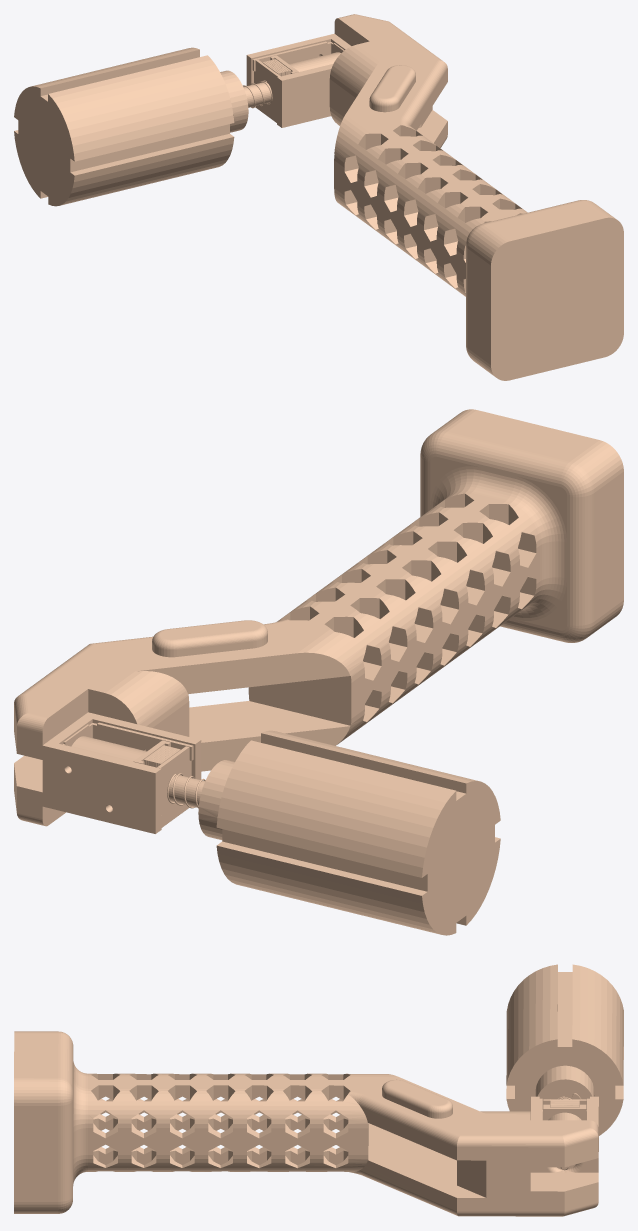
File: Motor Actuated Mallet Finalv.glb
3 views of the same model, one above another, from view 1: azimuth 30°, elevation 25°; view 2: azimuth 150°, elevation 25°; view 3: azimuth 270°, elevation 25° (orthographic). The views are drawn at different scales.
Size of the model in its own units: 131 by 50 by 207.
